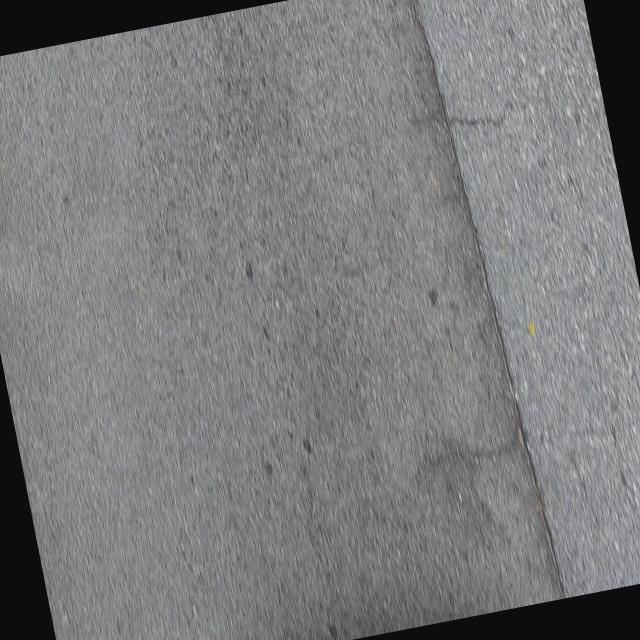Retak-Memanjang: (410, 13, 575, 600)
